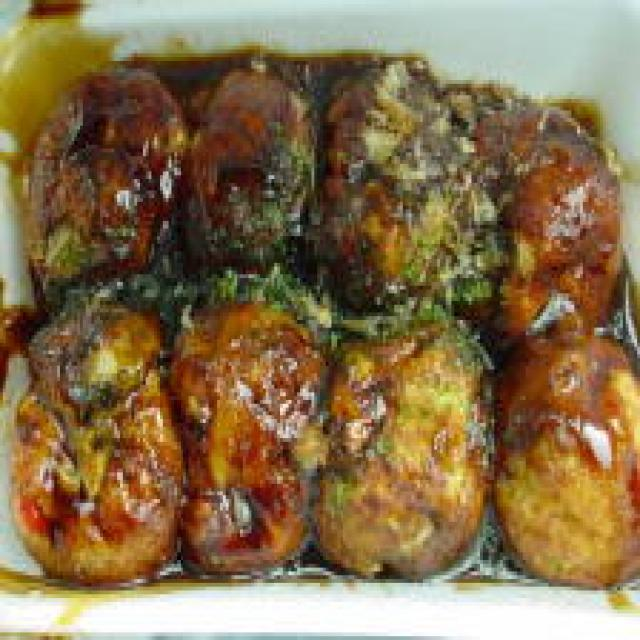炸货点心: (0, 34, 640, 598)
